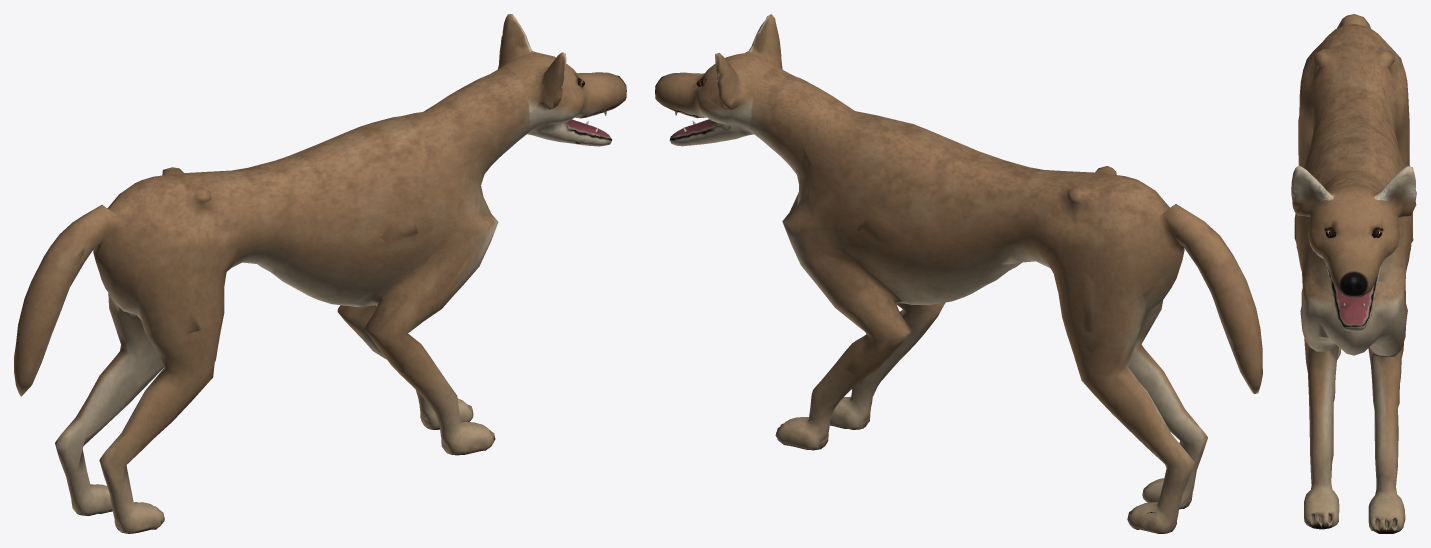
File: stray_bark.glb
3 renders of one model, left to right at view 1: azimuth 30°, elevation 25°; view 2: azimuth 150°, elevation 25°; view 3: azimuth 270°, elevation 25°, orthographic. The views are drawn at different scales.
Visible parts, largest first — view 1: stray_bark_mesh; view 2: stray_bark_mesh; view 3: stray_bark_mesh.
Boxes of the visible parts, left/top/right/bottom form: stray_bark_mesh: left=14, top=14, right=626, bottom=533; stray_bark_mesh: left=655, top=14, right=1262, bottom=533; stray_bark_mesh: left=1291, top=14, right=1416, bottom=533.
Bounding box in the file's own units: 1 × 0.6059 × 0.173.
Materials: 1 (1 with a texture image).
